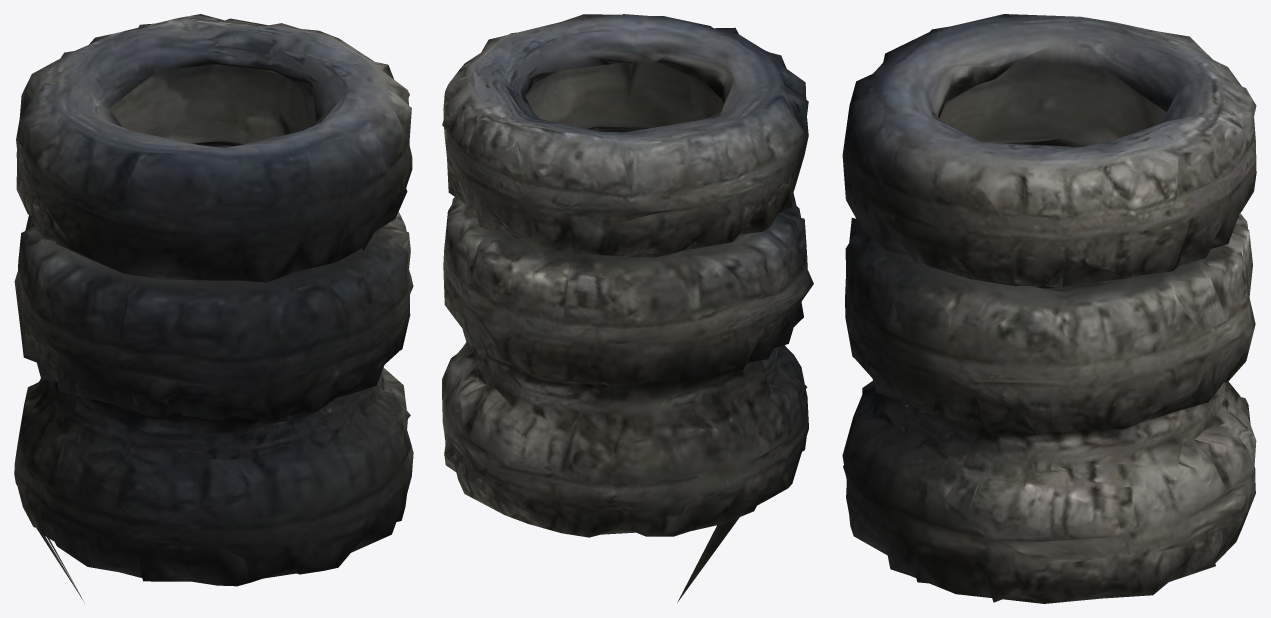
The model's file is gr_tyres.glb.
3 views of the same model, side by side, from view 1: azimuth 30°, elevation 25°; view 2: azimuth 150°, elevation 25°; view 3: azimuth 270°, elevation 25° (orthographic). The views are drawn at different scales.
Parts seen in each view (by area): view 1: tripo_node_27a0d537-ba5e-4a12-b1c1-9325045f7e5b; view 2: tripo_node_27a0d537-ba5e-4a12-b1c1-9325045f7e5b; view 3: tripo_node_27a0d537-ba5e-4a12-b1c1-9325045f7e5b.
Boxes of the visible parts, x1,y1,x2,y2 form: tripo_node_27a0d537-ba5e-4a12-b1c1-9325045f7e5b: (14,14,413,602); tripo_node_27a0d537-ba5e-4a12-b1c1-9325045f7e5b: (442,14,813,602); tripo_node_27a0d537-ba5e-4a12-b1c1-9325045f7e5b: (842,14,1256,603).
Bounding box in the file's own units: 0.7004 × 1 × 0.6915.
1 material, 1 textured.
